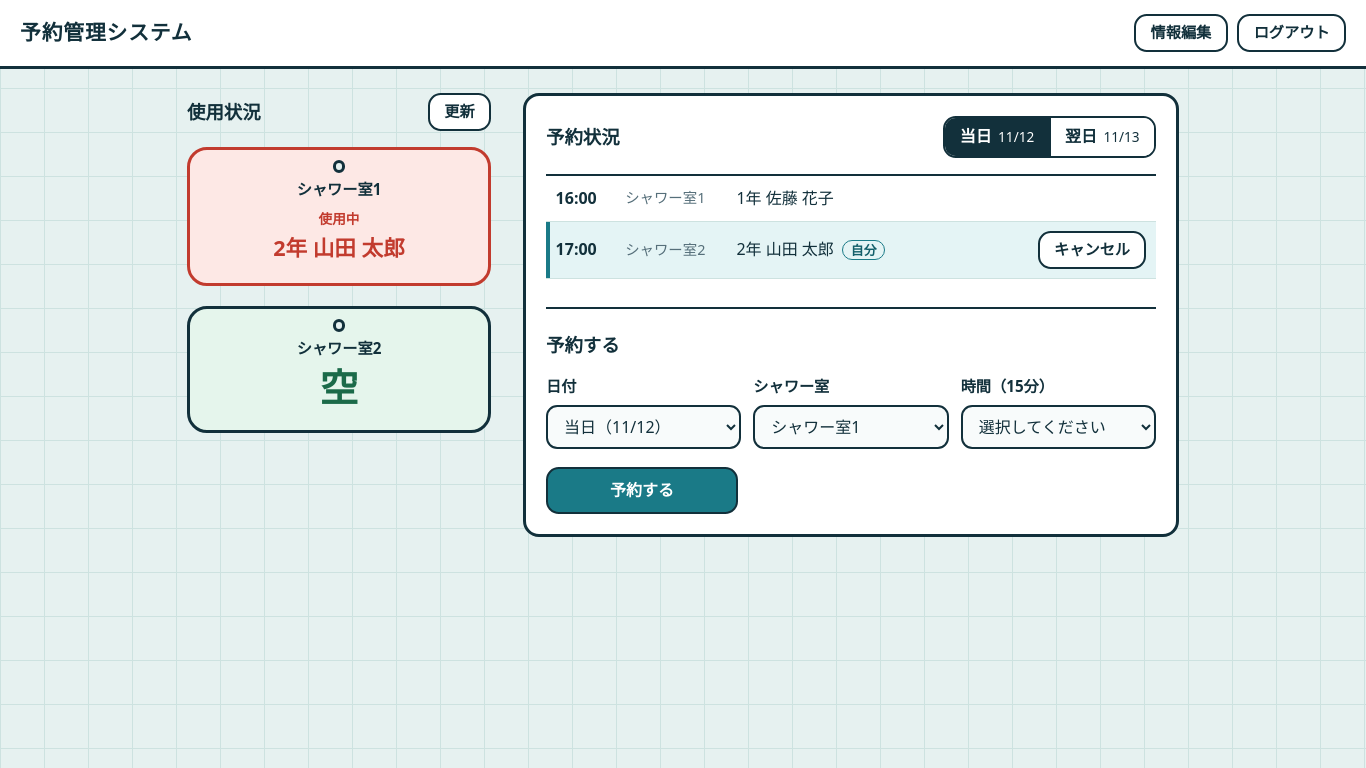
トップページ：予約する欄 › 先に予約された場合（409）は、サーバーのメッセージを表示して、最新の状態に更新する
The image size is (1366, 768).
Check: the heading "使用状況" is shown, box [187, 96, 261, 127]
Check: the heading "シャワー室1" is shown, box [297, 179, 381, 199]
Select "18:00" in the dropdown labelled "時間（15分）". click: (1058, 427)
box: [961, 405, 1156, 449]
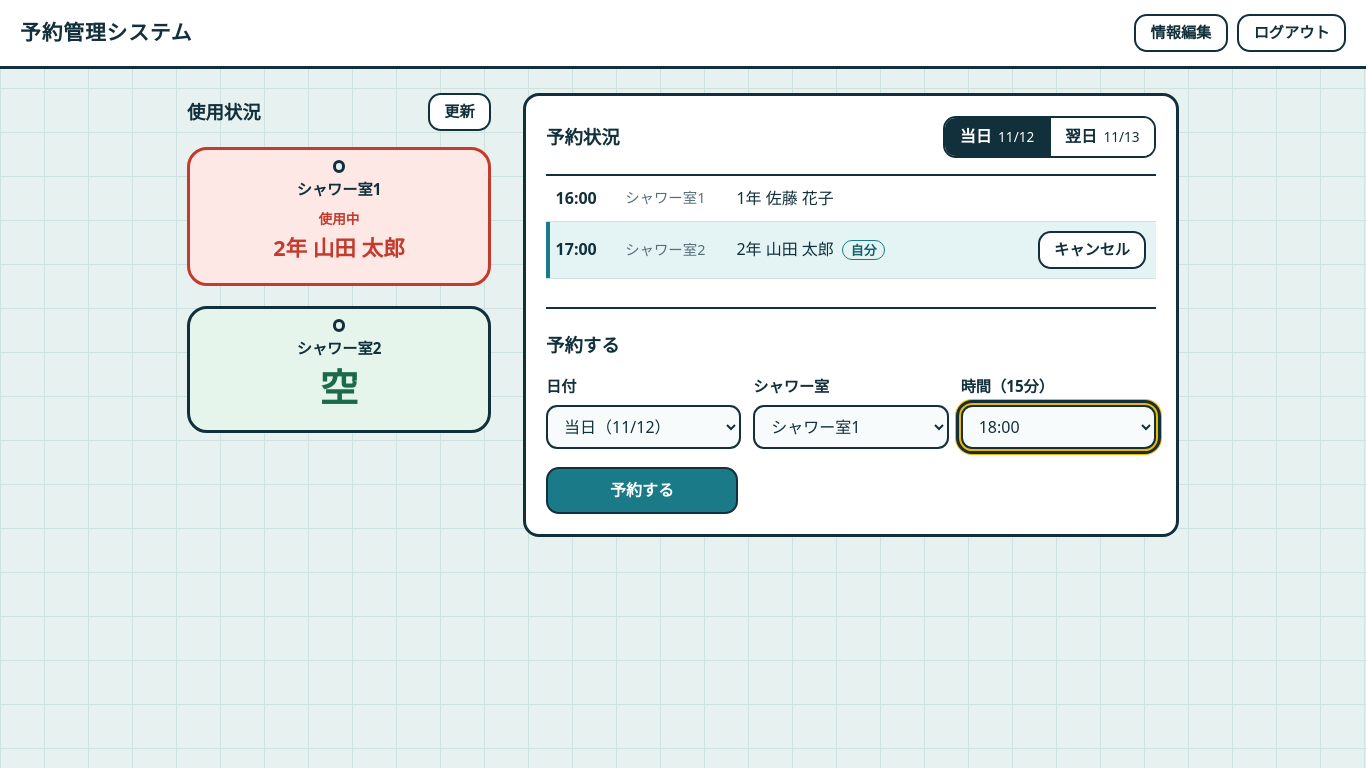
Click the button "予約する". click: click(642, 490)
box: [546, 467, 738, 514]
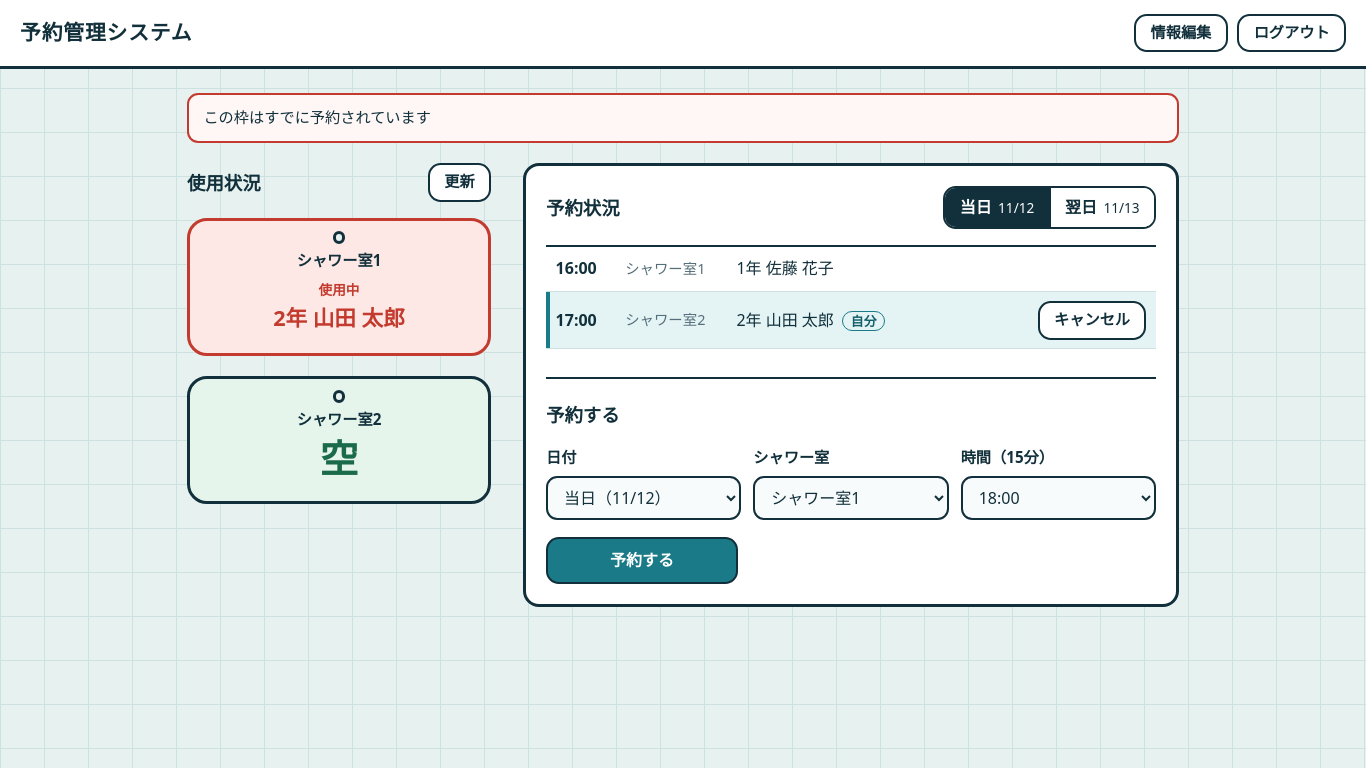
Check: the message reads "この枠はすでに予約されています", box [203, 107, 431, 127]
